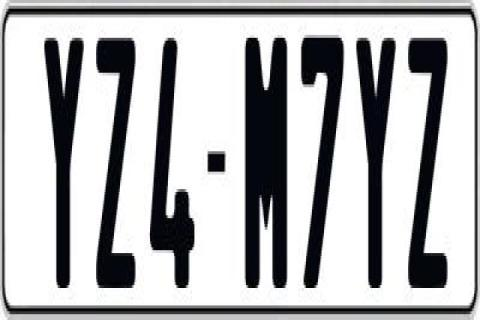0: (147, 32, 200, 282), (298, 29, 342, 279)
M: (246, 32, 289, 288)
Y: (352, 35, 394, 291), (42, 38, 82, 291)
Z: (406, 35, 454, 294), (94, 32, 136, 282)
